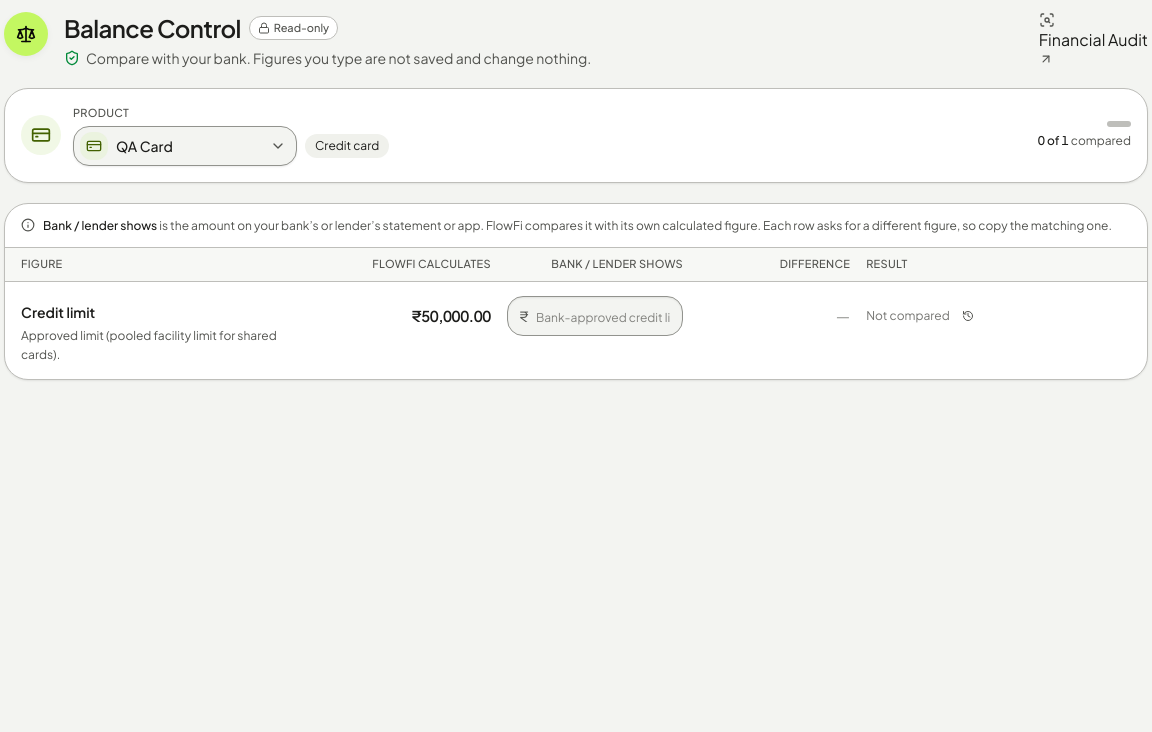
Test: Correct button visibility › shows once a different bank limit is typed
Type "60000" into the field with test id "bank-input" at point(595, 316), box [507,296,683,336]
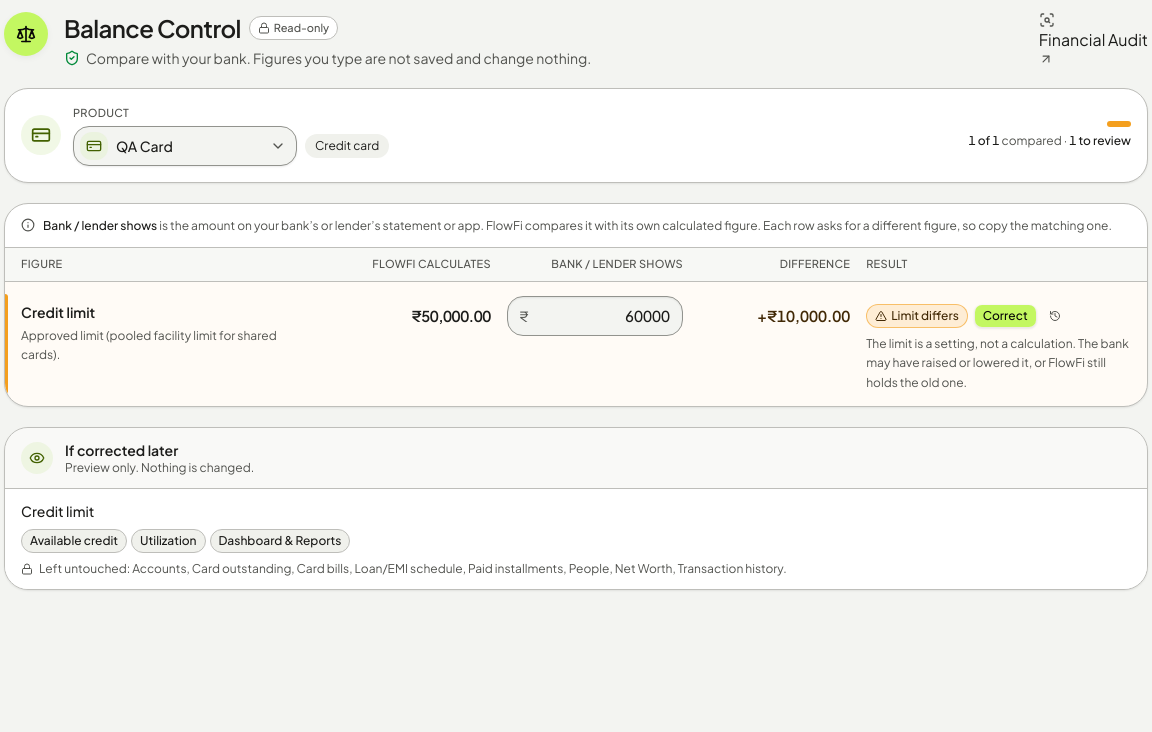
expect the button with test id "correct-limit-button" is shown: met, box [974,304,1037,328]
